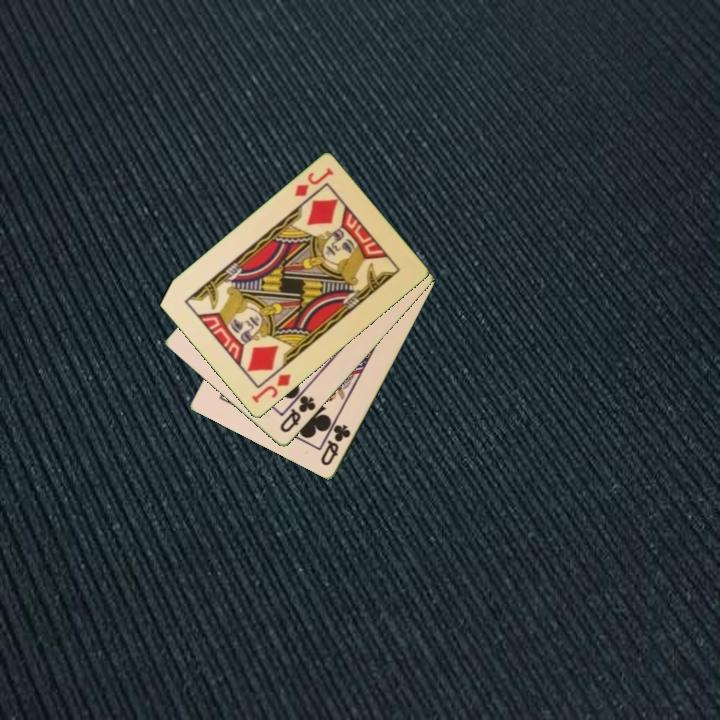Jd: (248, 371, 294, 407), (291, 165, 337, 200)
Qc: (276, 392, 319, 436), (317, 421, 354, 469)
